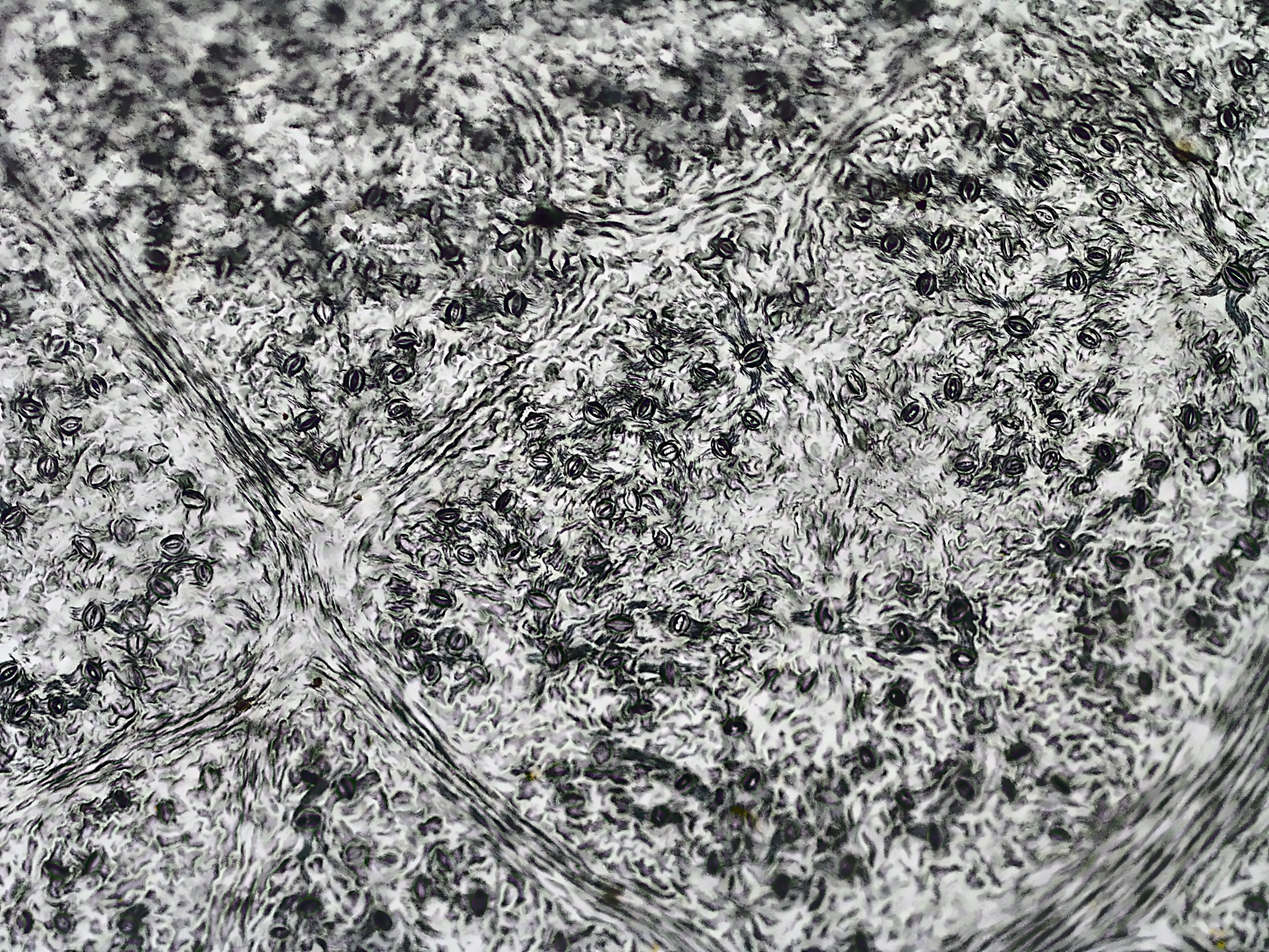stomata: (1221, 264, 1253, 290), (292, 807, 322, 833), (630, 89, 654, 116), (148, 572, 174, 596), (739, 342, 767, 364), (1105, 550, 1133, 572), (81, 603, 105, 628), (584, 398, 607, 424), (343, 367, 366, 393), (845, 370, 865, 399), (1023, 82, 1048, 105), (504, 289, 526, 315), (651, 523, 673, 549), (79, 850, 102, 874), (312, 298, 333, 324), (816, 597, 833, 629), (1068, 121, 1095, 141), (948, 648, 976, 667), (647, 344, 670, 367), (127, 629, 148, 654), (932, 225, 953, 250), (1096, 188, 1121, 209), (1039, 448, 1060, 473), (114, 517, 134, 543), (179, 489, 205, 509), (1066, 269, 1086, 295), (1031, 204, 1057, 224), (604, 614, 631, 633), (961, 175, 980, 202), (645, 140, 667, 163), (85, 377, 109, 398), (421, 659, 442, 683), (1145, 547, 1169, 568), (214, 253, 235, 277), (446, 301, 466, 326), (1170, 68, 1195, 88), (1218, 106, 1238, 131), (16, 399, 42, 418), (527, 589, 553, 608), (898, 401, 924, 420), (997, 415, 1023, 434), (398, 273, 419, 296), (298, 762, 319, 785), (1212, 554, 1233, 577), (10, 700, 30, 724), (495, 489, 514, 514), (943, 373, 962, 398), (1008, 315, 1033, 334), (1132, 486, 1150, 512), (80, 662, 102, 683), (633, 398, 655, 419), (739, 410, 761, 431), (90, 465, 113, 485), (1230, 57, 1253, 77), (1077, 327, 1100, 347), (1143, 453, 1166, 473), (740, 769, 760, 792), (655, 442, 679, 461), (997, 127, 1016, 151), (1085, 246, 1109, 265), (549, 248, 567, 273), (726, 126, 744, 151), (388, 364, 416, 380), (161, 536, 187, 553), (48, 335, 69, 356), (454, 544, 476, 564), (221, 142, 243, 162), (709, 437, 732, 456), (296, 411, 319, 430), (623, 489, 642, 512), (1108, 598, 1127, 621), (328, 251, 346, 275), (39, 861, 66, 877), (917, 271, 934, 296), (722, 653, 747, 670), (148, 442, 169, 462), (668, 612, 688, 633), (1051, 535, 1072, 555), (2, 507, 24, 526), (1002, 456, 1024, 475), (952, 453, 975, 471), (1099, 135, 1120, 154), (1046, 410, 1067, 429), (366, 182, 384, 204), (1035, 374, 1057, 392), (1182, 406, 1200, 428), (145, 248, 167, 266), (798, 670, 816, 692), (567, 453, 584, 476), (545, 644, 562, 667), (684, 103, 707, 120), (522, 413, 548, 428), (75, 536, 94, 556), (46, 695, 66, 714), (193, 561, 212, 581), (285, 353, 304, 373), (789, 283, 808, 303), (891, 621, 910, 641), (1031, 169, 1050, 189), (1090, 394, 1110, 413), (1095, 443, 1114, 463), (948, 600, 968, 619), (883, 233, 904, 251), (1238, 536, 1256, 557), (999, 234, 1014, 259), (593, 739, 610, 761), (156, 800, 173, 822), (388, 398, 411, 414), (392, 331, 415, 347), (1241, 407, 1257, 430), (402, 628, 421, 647), (447, 632, 467, 650), (1212, 352, 1230, 372), (337, 775, 354, 796), (853, 207, 870, 228), (695, 362, 717, 378), (1008, 744, 1030, 760), (595, 498, 614, 516), (428, 203, 447, 221), (54, 912, 72, 931), (531, 453, 551, 470), (316, 450, 337, 466), (858, 746, 874, 767), (58, 416, 80, 431), (505, 543, 523, 561), (914, 170, 931, 189), (657, 446, 680, 460), (431, 590, 451, 606), (897, 579, 917, 595), (724, 718, 744, 734), (1186, 611, 1202, 631), (627, 702, 653, 714), (436, 510, 458, 524), (1053, 775, 1069, 794), (719, 235, 734, 254), (890, 689, 907, 705), (673, 773, 690, 789), (42, 457, 55, 473), (1136, 671, 1148, 686), (604, 656, 620, 667)
